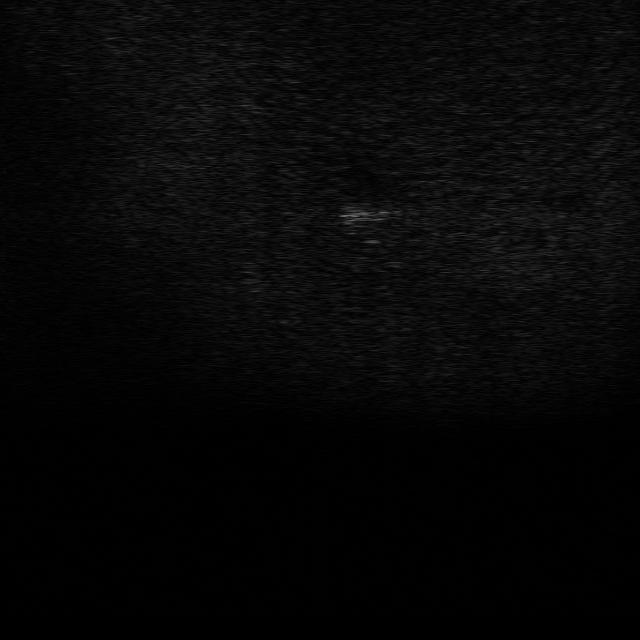plane: (340, 204, 401, 228)
